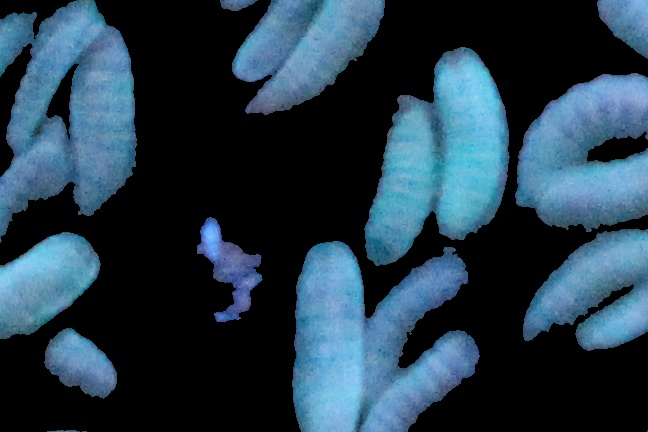larvae: (429, 44, 520, 252), (58, 11, 144, 213), (249, 1, 386, 118), (514, 56, 648, 165), (1, 216, 97, 367), (369, 245, 460, 402), (294, 241, 364, 432), (15, 1, 105, 145), (523, 225, 648, 327), (373, 324, 477, 432), (371, 97, 432, 256), (534, 158, 648, 231), (45, 318, 119, 410), (229, 4, 313, 79), (564, 298, 648, 350), (1, 1, 39, 113)
